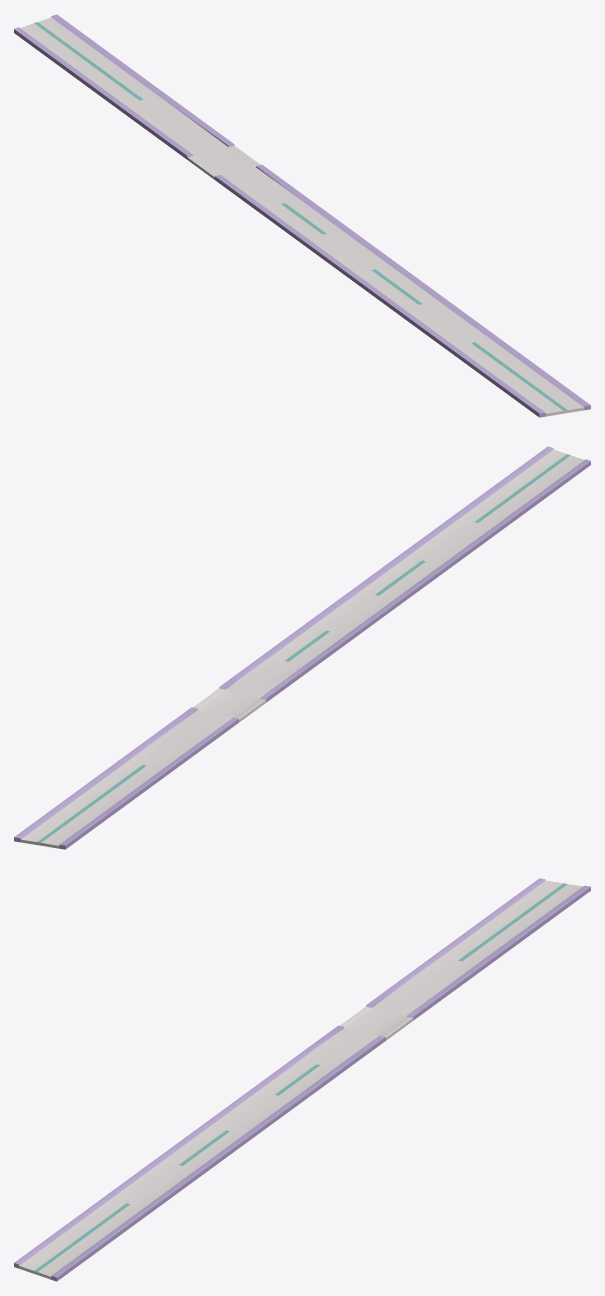
Rendered from Driveway_1.fbx.
The picture shows the model from 3 angles, top to bottom: view 1: azimuth 30°, elevation 25°; view 2: azimuth 150°, elevation 25°; view 3: azimuth 330°, elevation 25°; orthographic projection.
Parts seen in each view (by area): view 1: Driveway_1; view 2: Driveway_1; view 3: Driveway_1.
Part boxes in pixels (<box>): Driveway_1: <box>14,14,590,417</box>; Driveway_1: <box>14,446,590,849</box>; Driveway_1: <box>14,878,590,1281</box>.
Size of the model in its own units: 310 by 6066 by 25.91.
